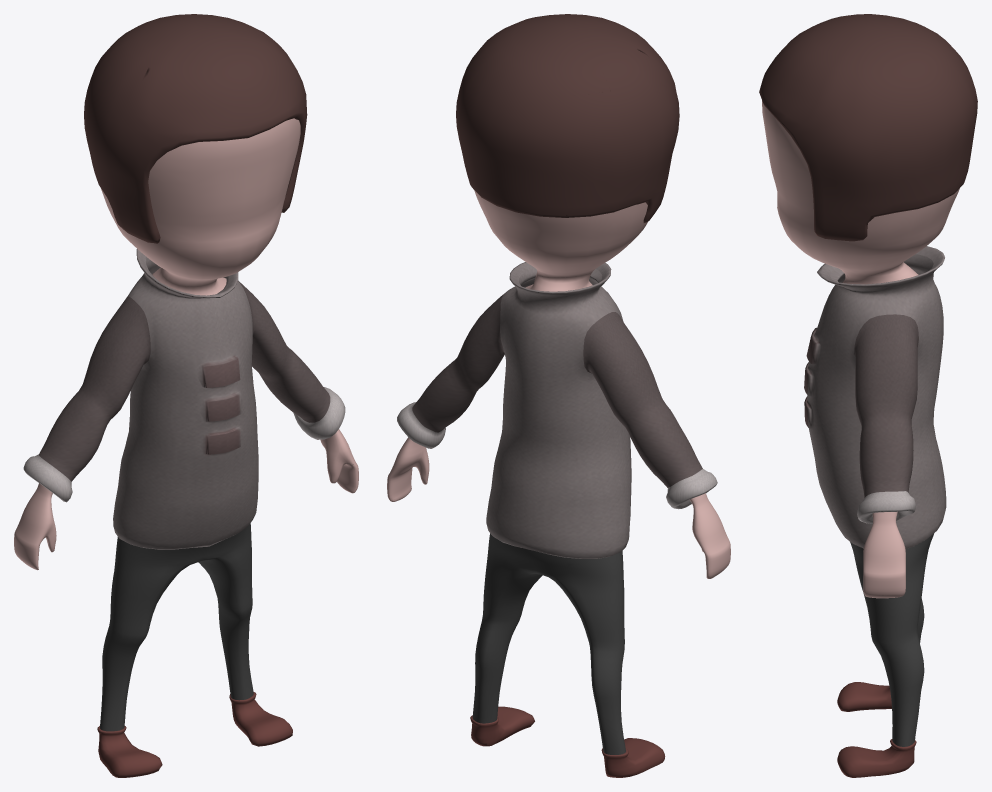
The model's file is main_character_tpose.fbx.
3 views of the same model, side by side, from view 1: azimuth 30°, elevation 25°; view 2: azimuth 150°, elevation 25°; view 3: azimuth 270°, elevation 25° (orthographic).
Parts seen in each view (by area): view 1: character1; view 2: character1; view 3: character1.
Part boxes in pixels (box(x1,y1,x2,y2)): character1: box(14, 14, 358, 777); character1: box(387, 14, 730, 777); character1: box(759, 14, 977, 777).
Bounding box in the file's own units: 3.6 × 7.48 × 2.09.
